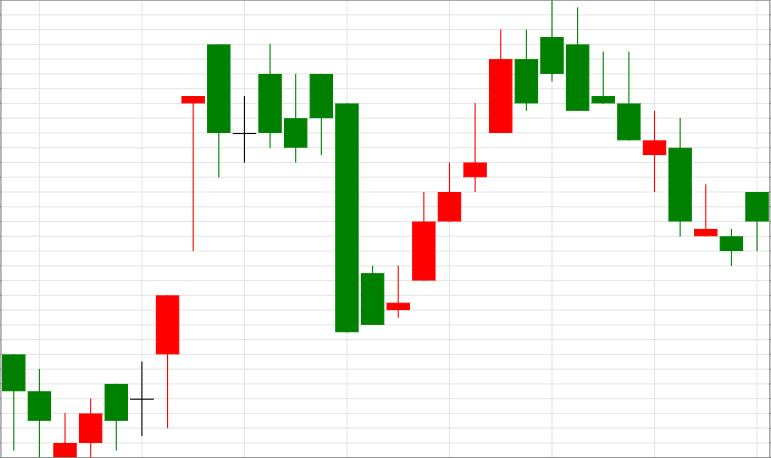shooting_star_fall: (386, 0, 564, 318)
